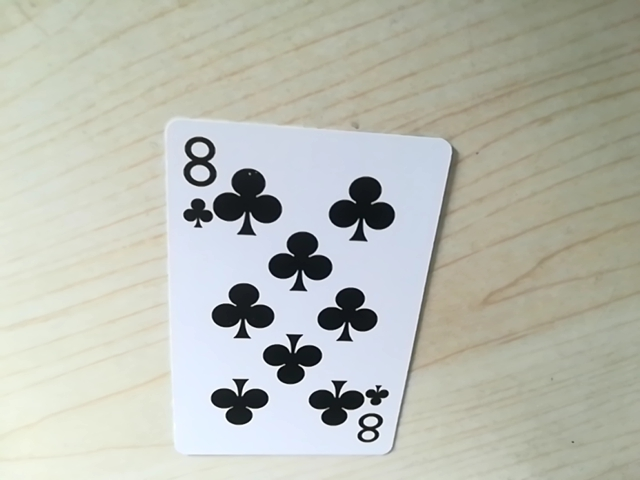mh 8: (175, 127, 215, 235), (357, 384, 398, 447)
